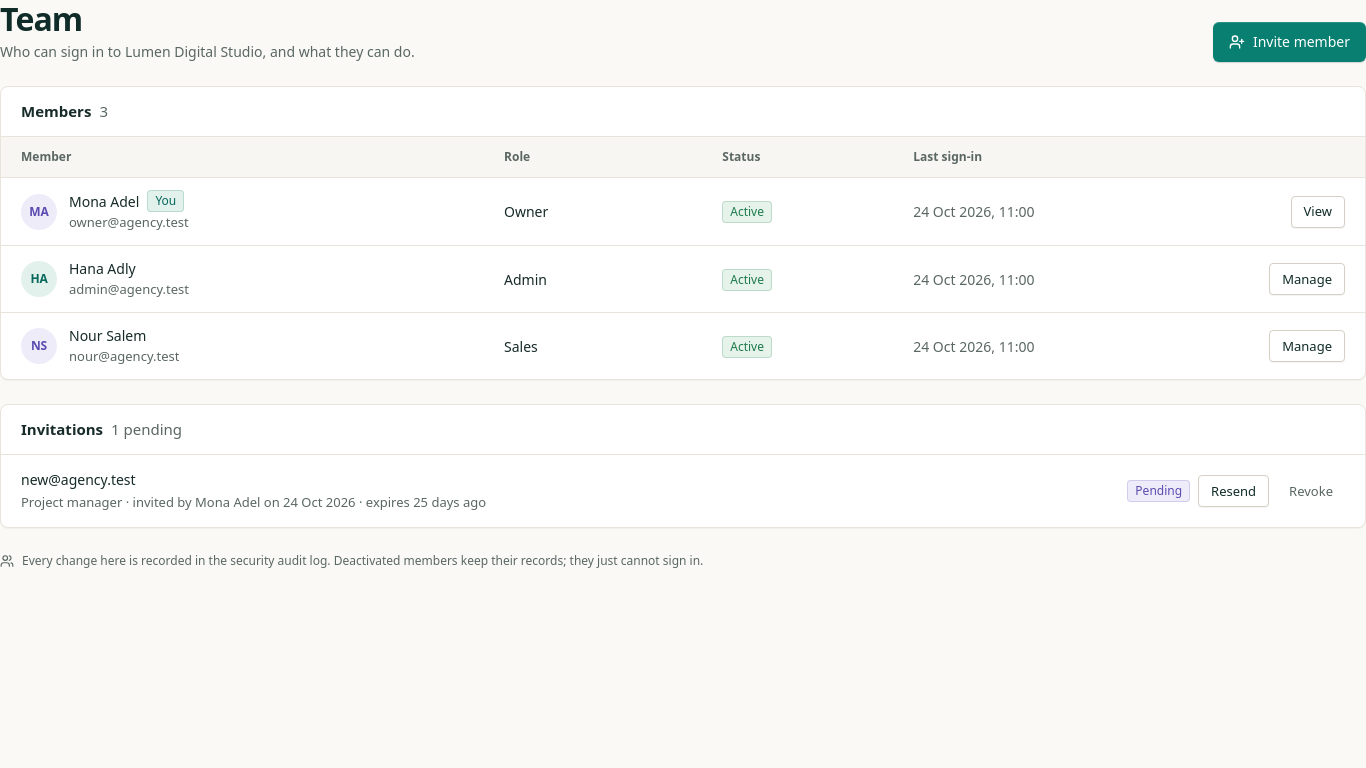
Test case: TeamPage › shows the one-time link after creating an invitation
Click the button "Invite member" at point(1289, 42), box [1213, 22, 1365, 62]
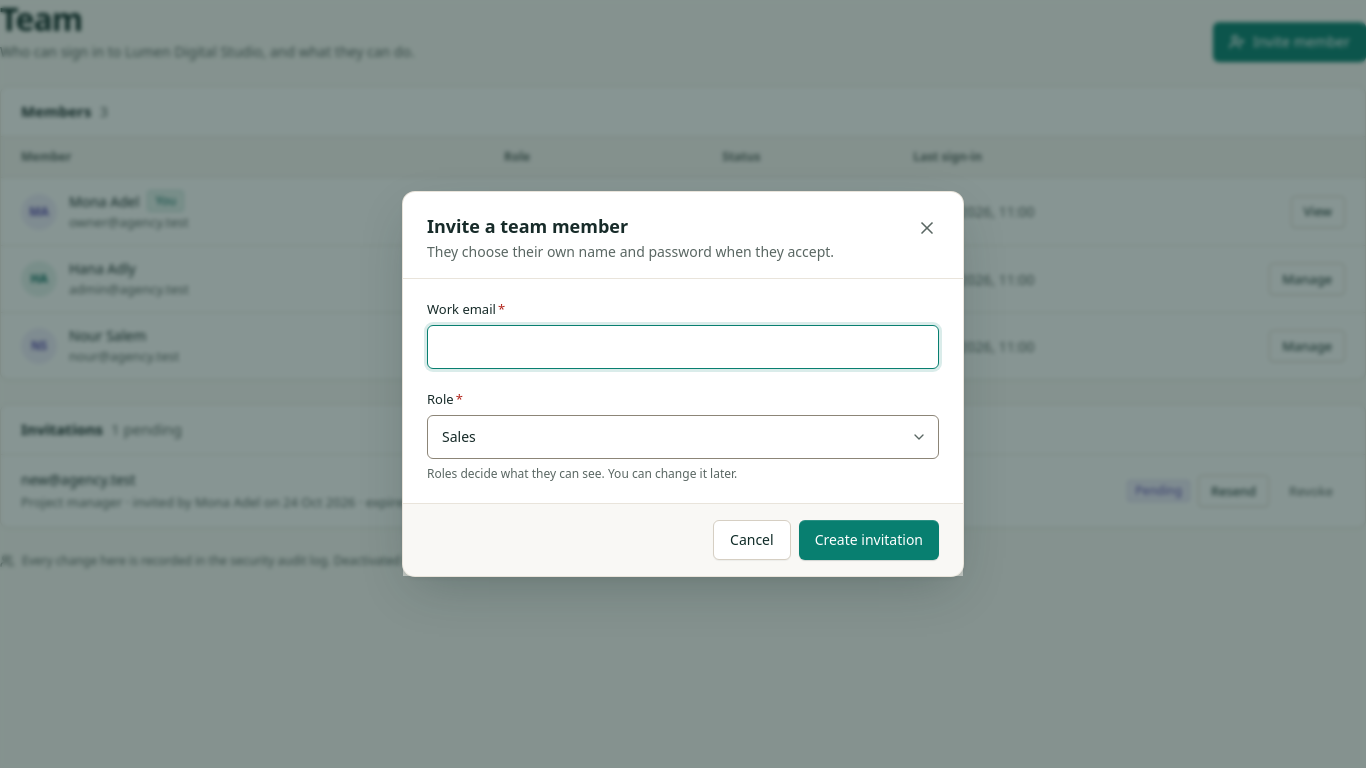
Type "joiner@agency.test" into the field labelled "Work email*" at point(683, 347), box [427, 325, 939, 369]
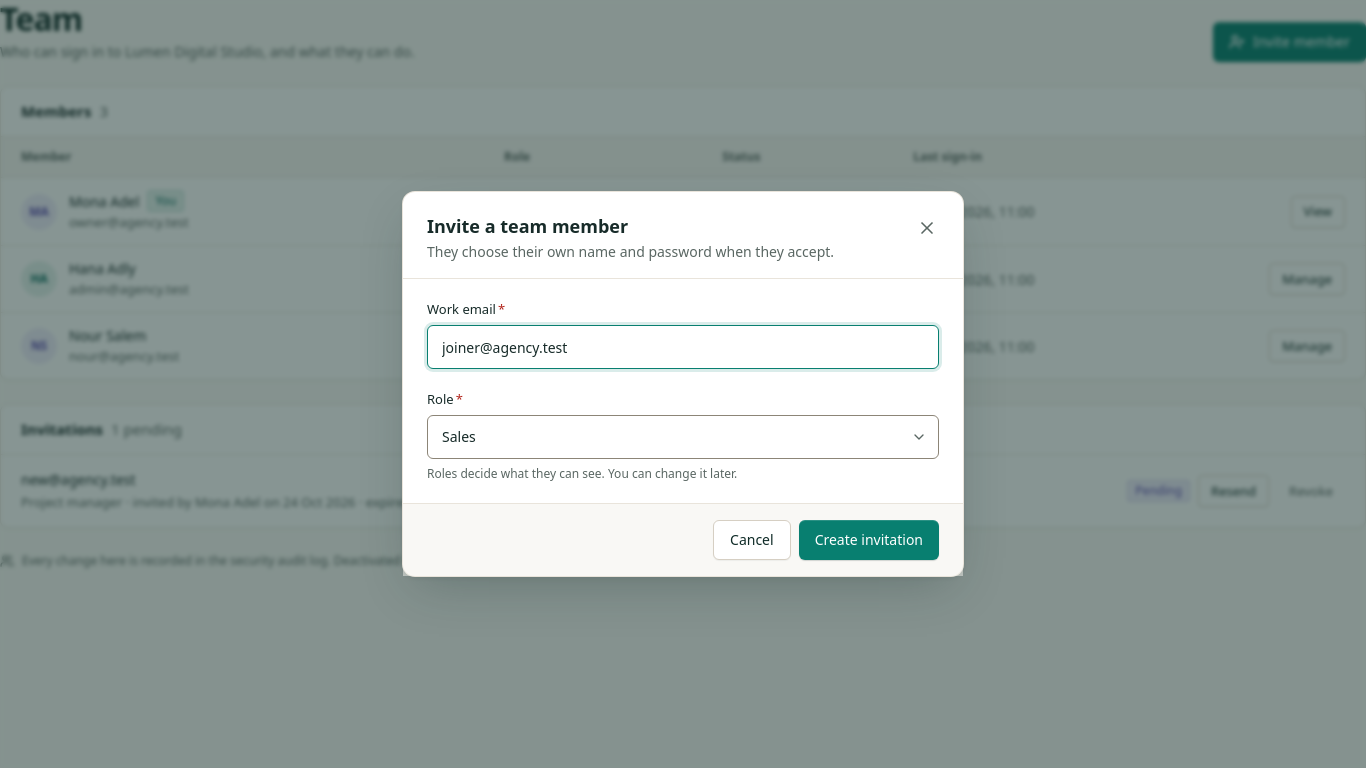
Select "Project manager" in the dropdown labelled "Role*" at point(683, 437), box [427, 415, 939, 459]
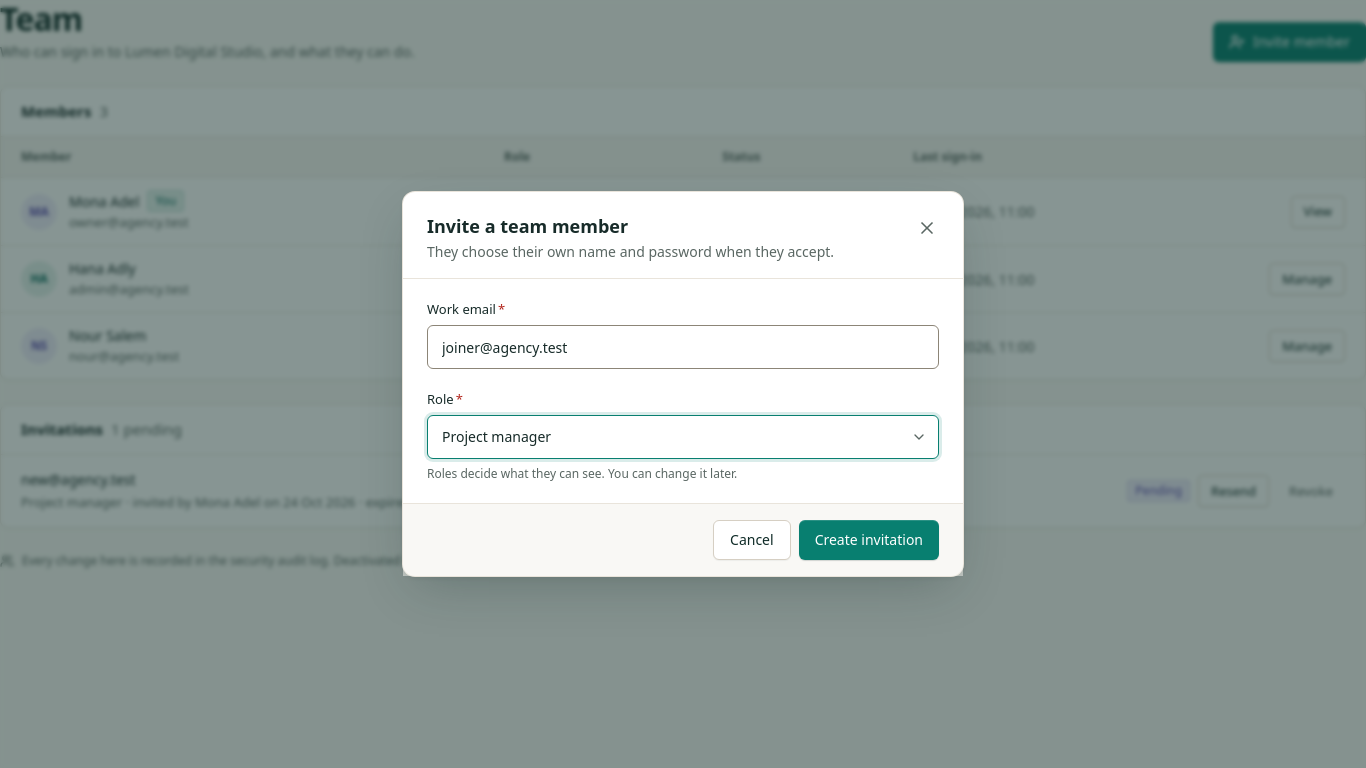
Click the button "Create invitation" at point(869, 540), box [799, 520, 939, 560]
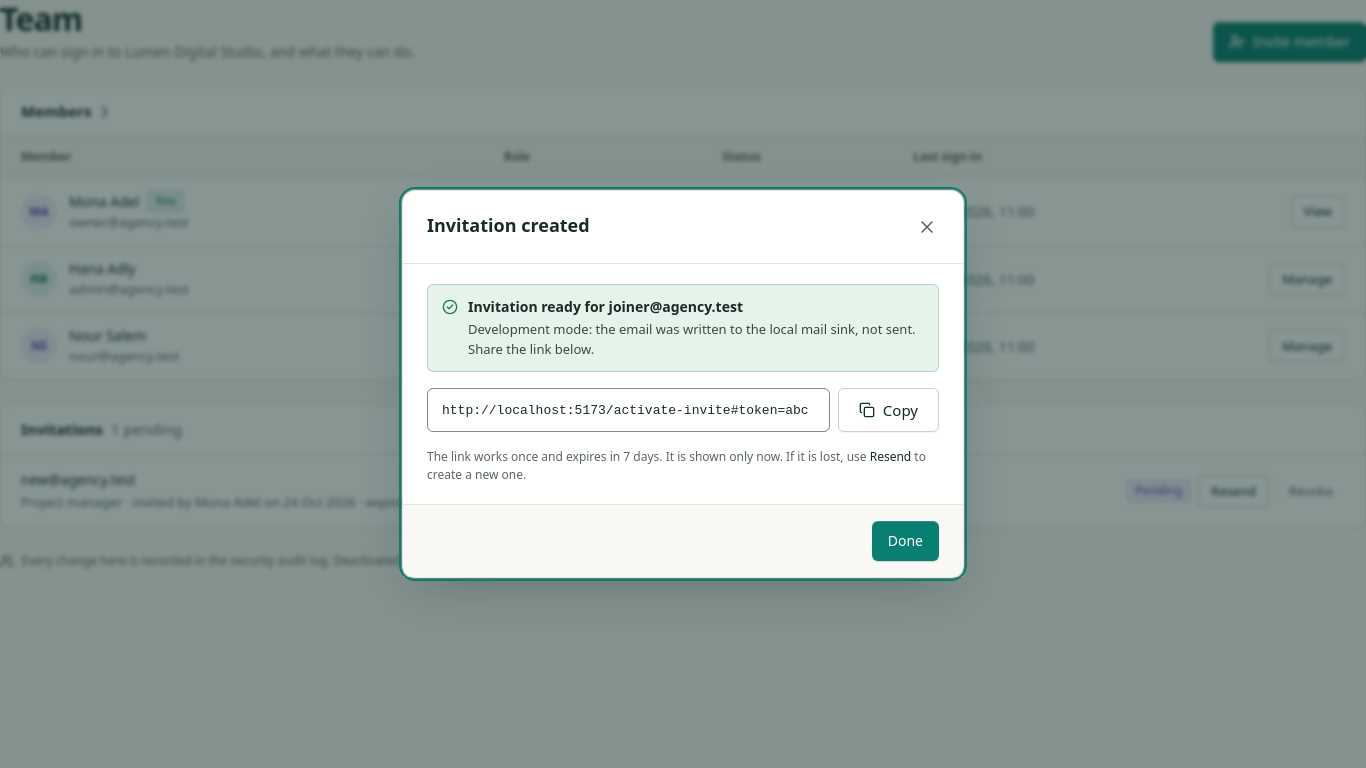
Now the field named "Invitation link" holds "http://localhost:5173/activate-invite#token=abc", box [427, 388, 830, 432]
Now the text "written to the local mail sink, not sent" is shown, box [468, 320, 916, 358]
